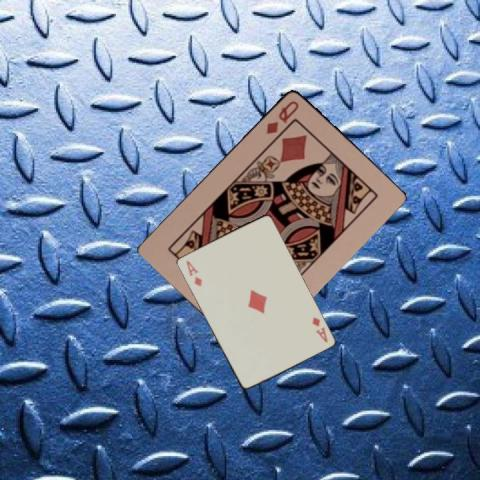Ad: (308, 313, 329, 344), (183, 257, 203, 288)
Qd: (262, 97, 300, 135)
